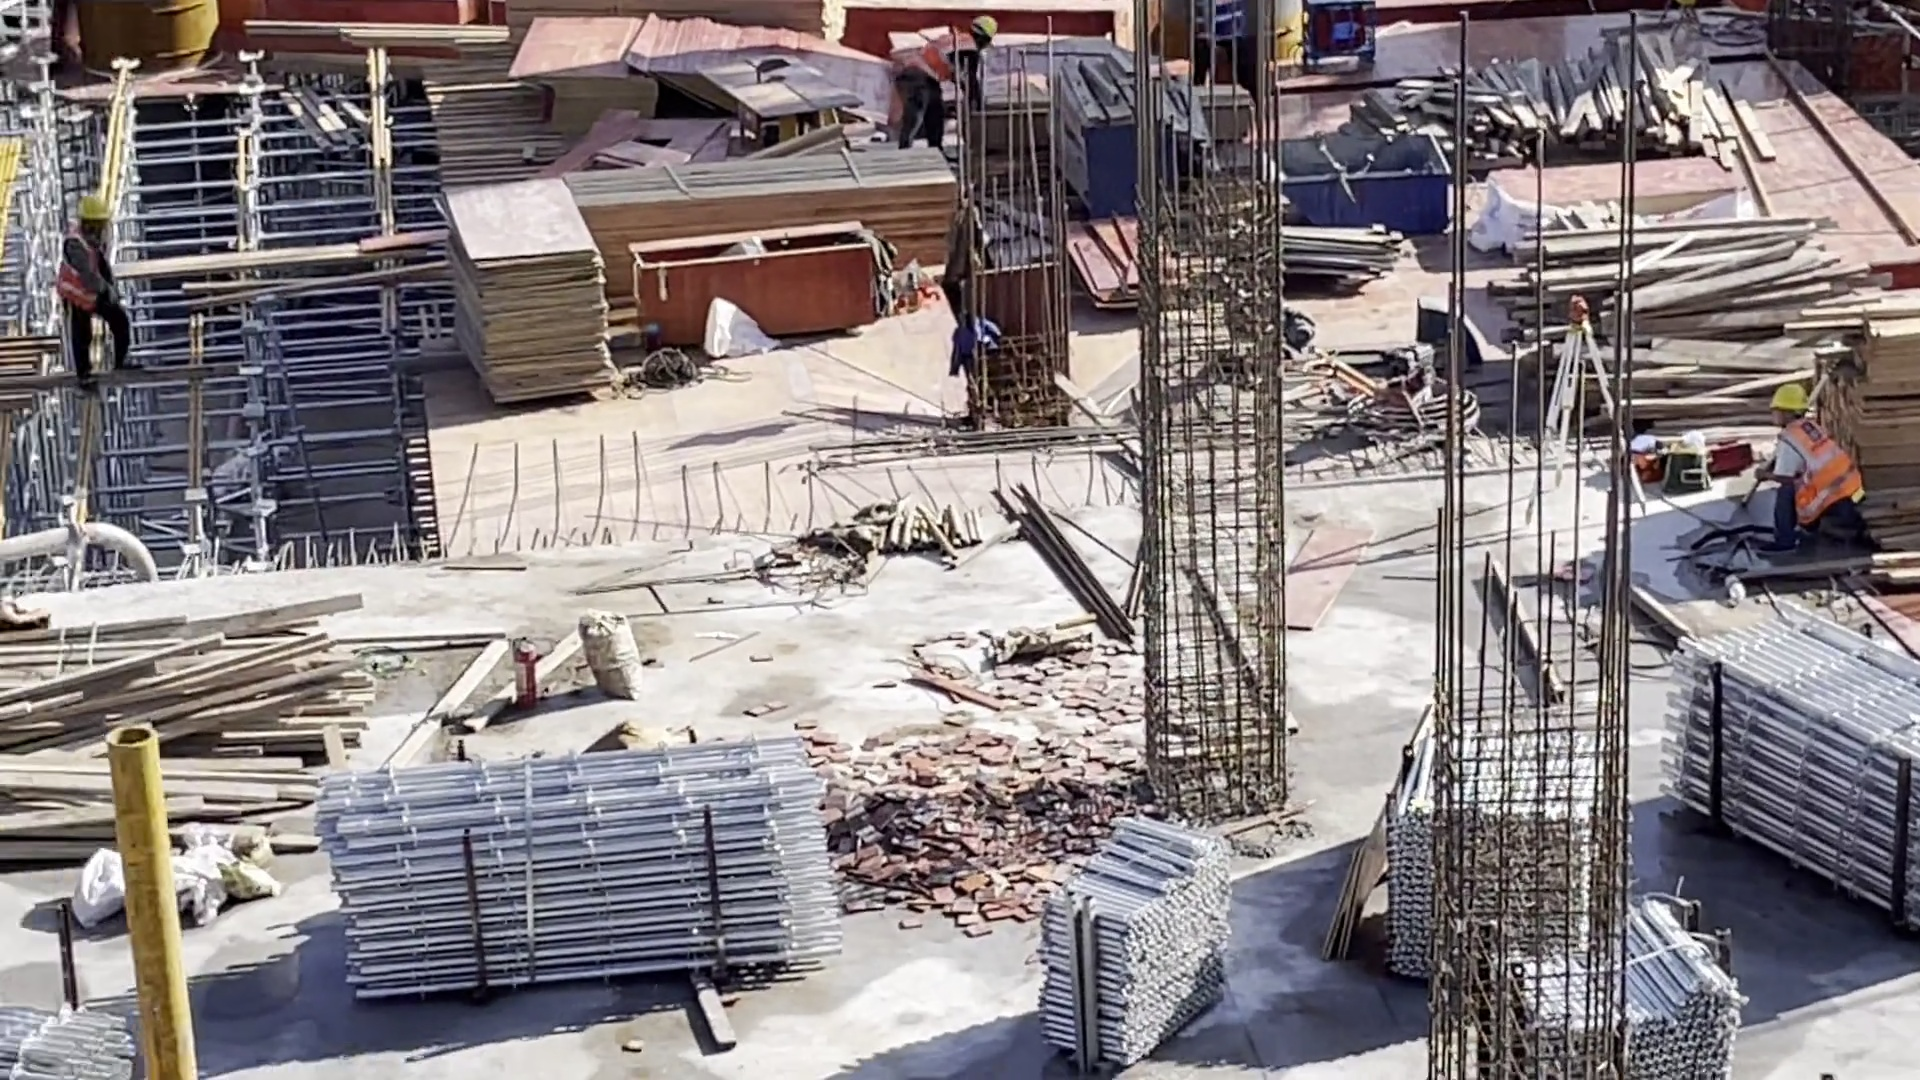board: (435, 175, 615, 405), (511, 20, 887, 118)
helmet: (1767, 376, 1813, 423), (77, 197, 115, 228), (973, 17, 998, 38)
hopper: (1257, 134, 1451, 237)
person: (1762, 374, 1870, 557), (63, 198, 155, 389), (896, 16, 997, 146)
scaffold: (315, 741, 850, 1005), (1388, 700, 1741, 1080), (1662, 601, 1920, 930), (1037, 812, 1229, 1063)
vest: (1777, 427, 1861, 520), (65, 231, 115, 317), (910, 31, 970, 87)
wood: (9, 586, 366, 860), (1503, 222, 1859, 419), (1417, 35, 1758, 167), (567, 159, 963, 264)
